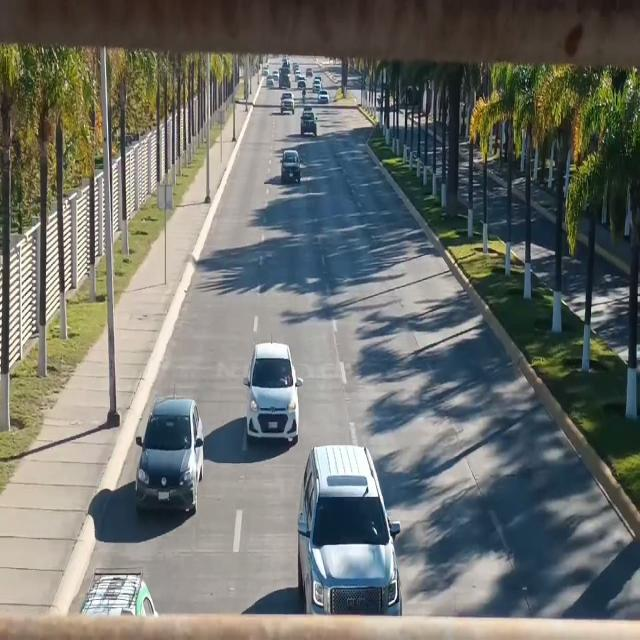Auto: (294, 446, 406, 615), (134, 402, 208, 524), (246, 343, 303, 446), (279, 150, 304, 188), (298, 108, 319, 137), (280, 89, 296, 114)
